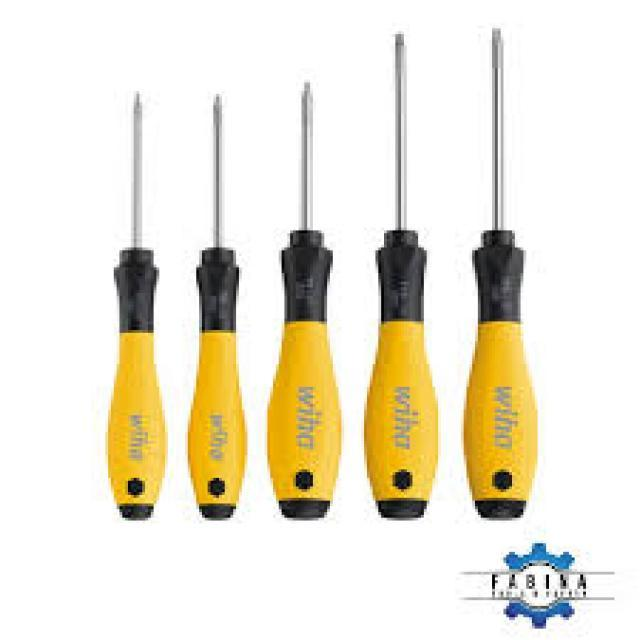screwdriver: (361, 26, 441, 526), (459, 30, 539, 522), (264, 75, 344, 525), (100, 91, 170, 526), (182, 91, 248, 526)
